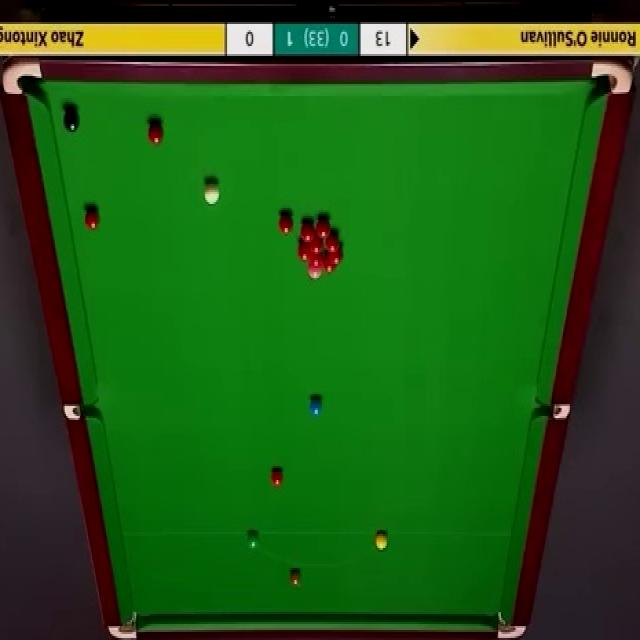black-ball: (64, 108, 80, 134)
blue-ball: (309, 394, 324, 418)
brown-ball: (288, 566, 301, 586)
green-ball: (245, 528, 261, 549)
pink-ball: (308, 268, 322, 279)
red-ball: (148, 120, 164, 143), (301, 220, 317, 243), (279, 211, 293, 233), (85, 208, 99, 230), (270, 466, 284, 486), (322, 254, 336, 274), (317, 222, 330, 243), (331, 244, 344, 264), (325, 232, 339, 250), (298, 242, 311, 260), (309, 239, 323, 254), (310, 253, 322, 269)
white-ball: (203, 178, 221, 203)
yellow-ball: (375, 530, 388, 550)
